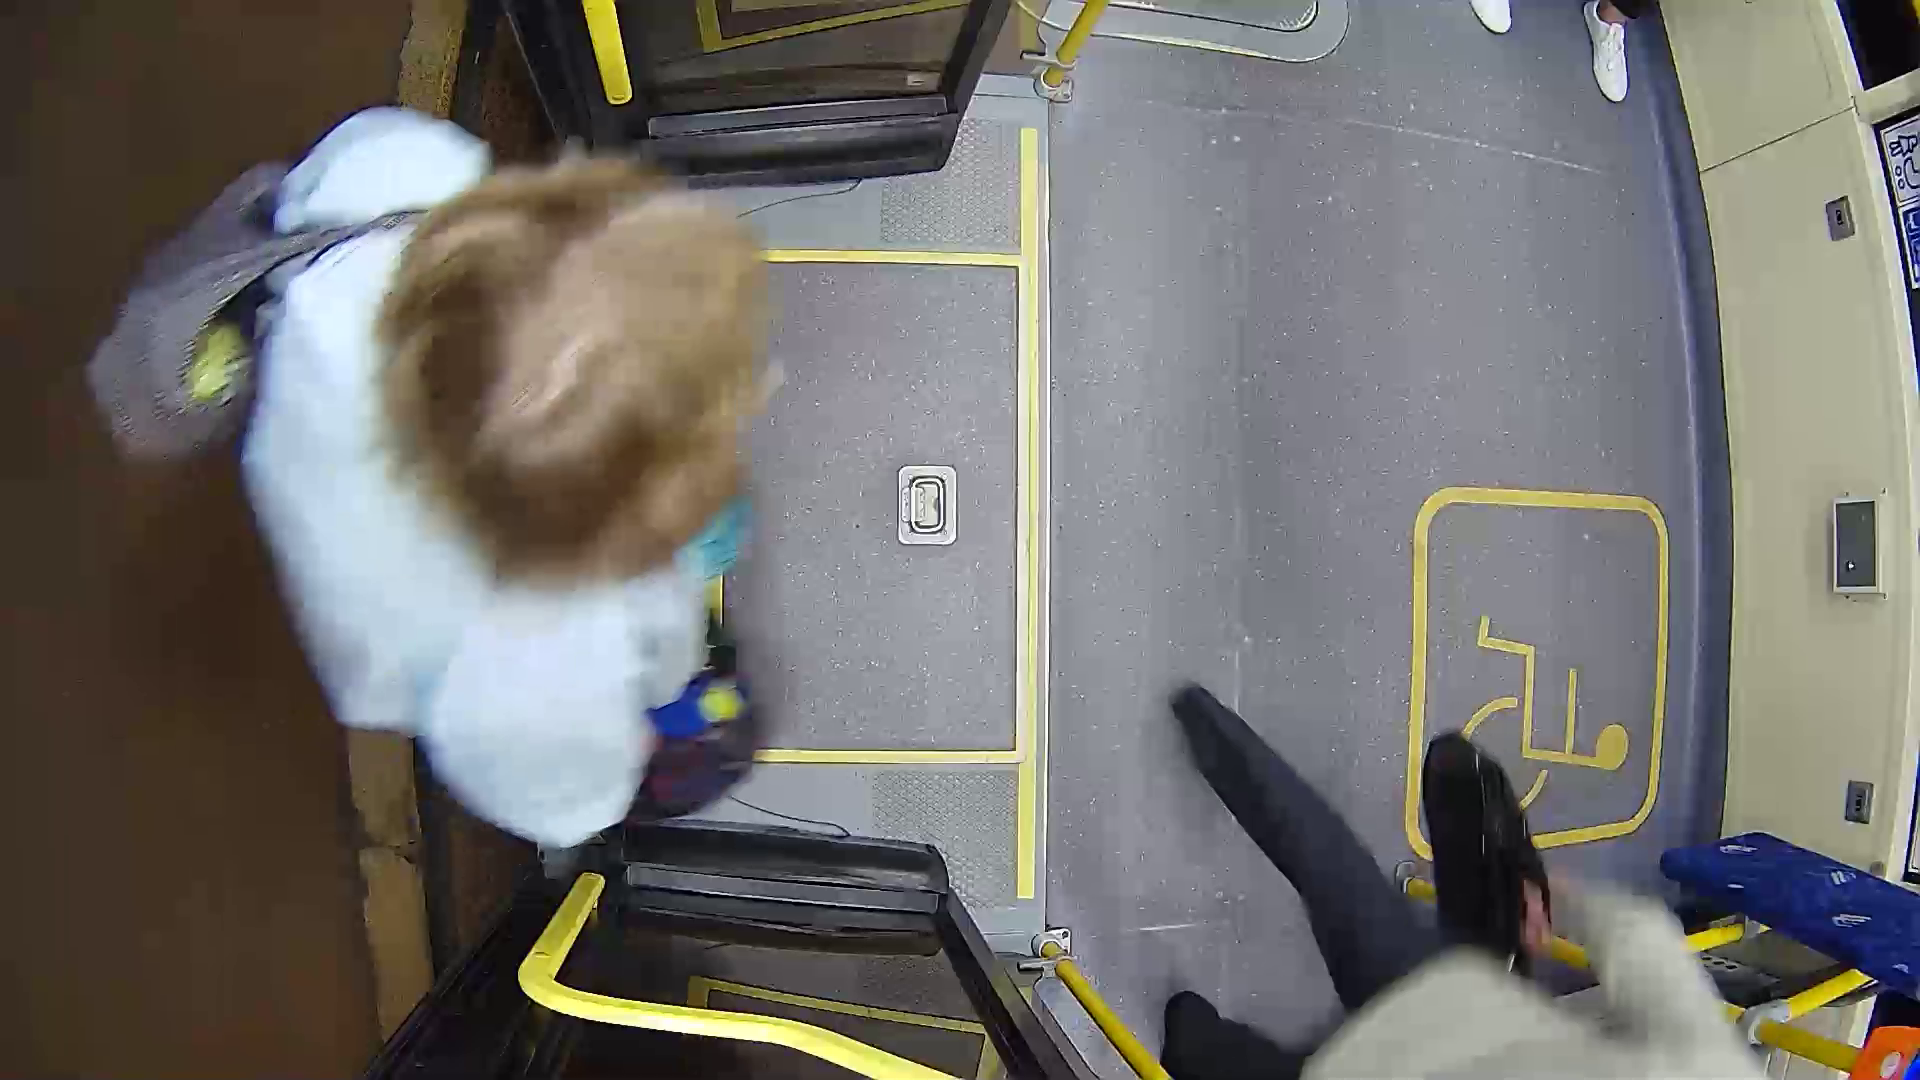person: (160, 122, 824, 833)
